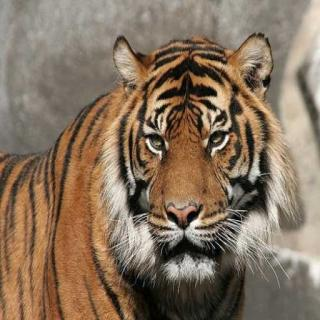Tiger: (0, 21, 281, 320)
